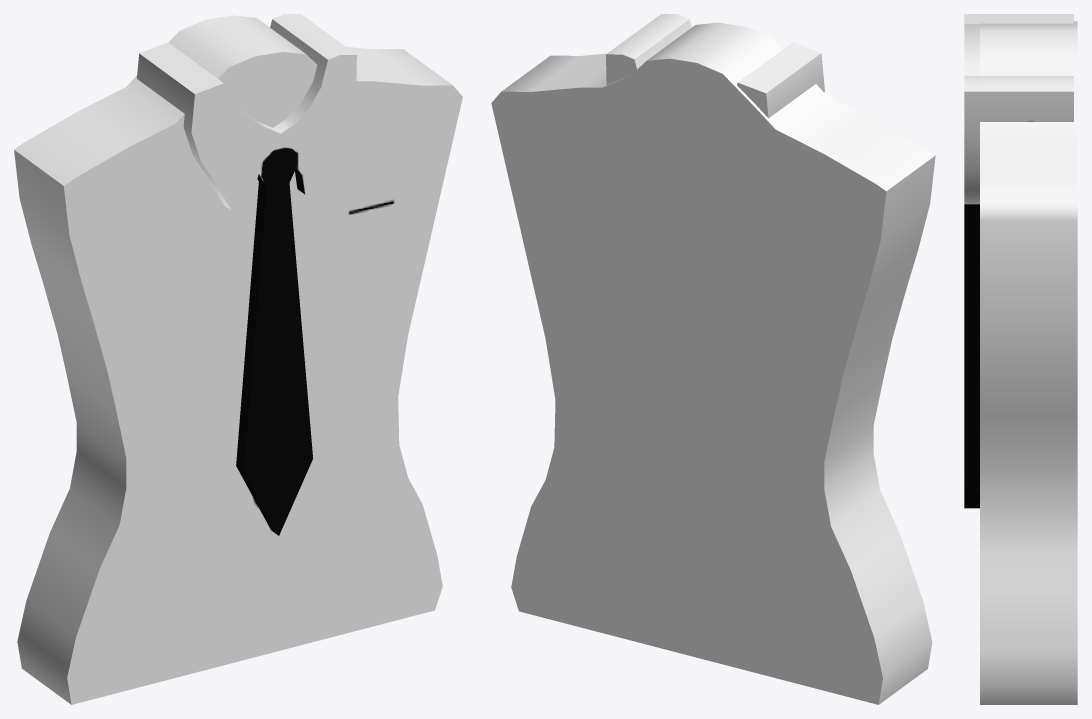
The model's file is kemejaP.fbx.
The picture shows the model from 3 angles, left to right: view 1: azimuth 30°, elevation 25°; view 2: azimuth 150°, elevation 25°; view 3: azimuth 270°, elevation 25°; orthographic projection.
Parts seen in each view (by area): view 1: root (×2); view 2: root (×2); view 3: root (×2).
Boxes of the visible parts, x1,y1,x2,y2 form: root (×2): [14, 14, 462, 704]; root (×2): [491, 14, 935, 704]; root (×2): [964, 14, 1077, 704].
Size of the model in its own units: 0.2933 by 0.4239 by 0.0734.
2 materials, 2 textured.
